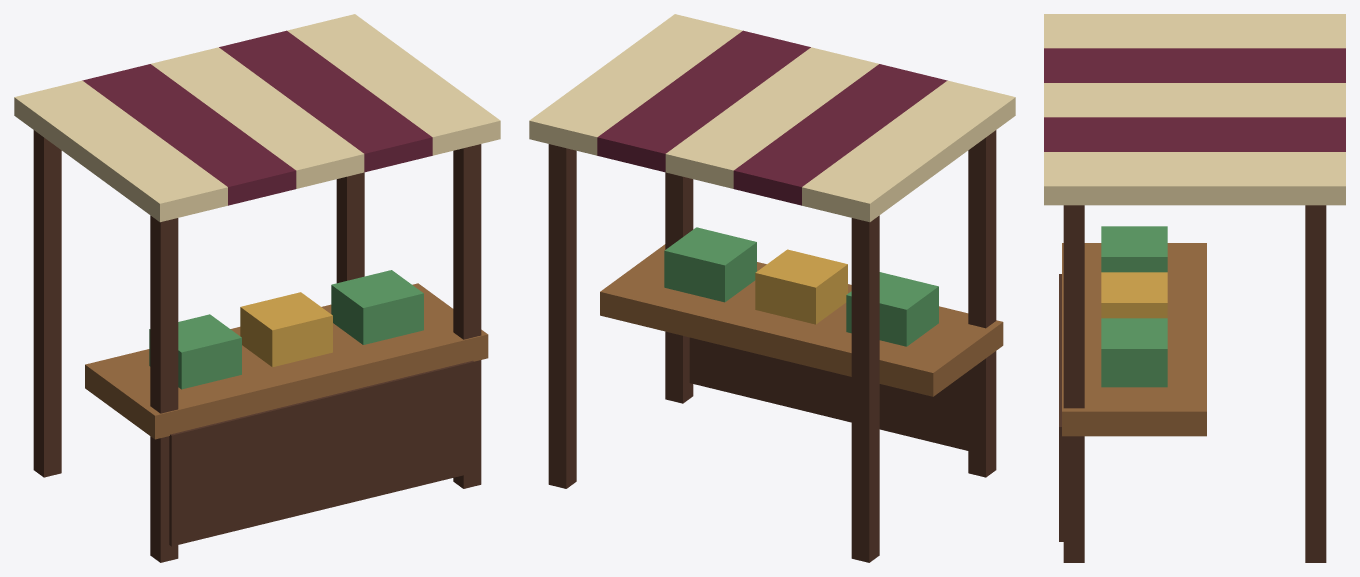
Rendered from HarborMarketStall.glb.
3 views of the same model, side by side, from view 1: azimuth 30°, elevation 25°; view 2: azimuth 150°, elevation 25°; view 3: azimuth 270°, elevation 25° (orthographic). The views are drawn at different scales.
Visible parts, largest first — view 1: HarborMarketStall; view 2: HarborMarketStall; view 3: HarborMarketStall.
Part boxes in pixels (x1,y1,x2,y2): HarborMarketStall: (14, 14, 500, 562); HarborMarketStall: (529, 14, 1015, 562); HarborMarketStall: (1044, 14, 1345, 562).
Bounding box in the file's own units: 6.75 × 6.97 × 5.
